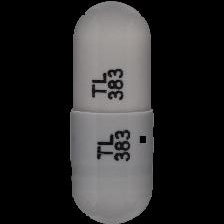53808-1056: (0, 0, 224, 224)
